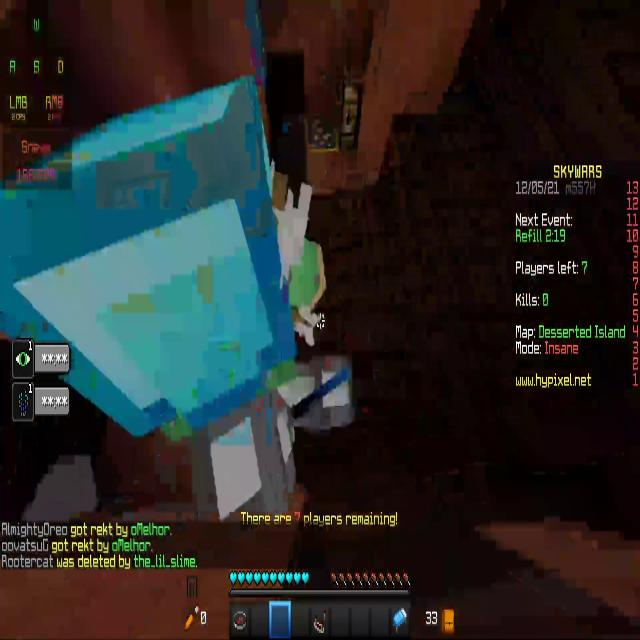Player: (0, 57, 372, 545)
